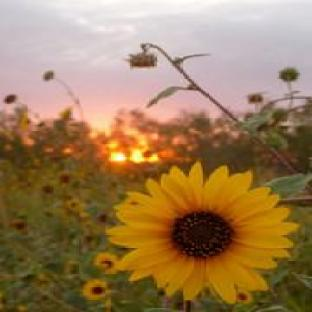sunflower: (111, 161, 300, 306)
